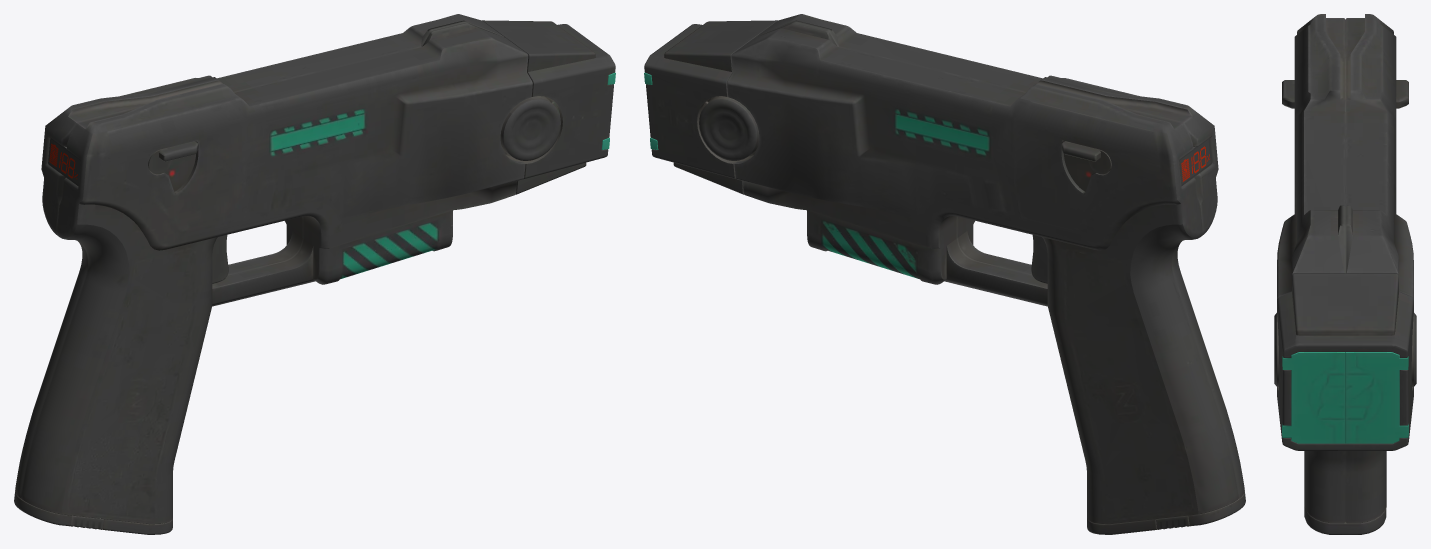
3 renders of one model, left to right at view 1: azimuth 30°, elevation 25°; view 2: azimuth 150°, elevation 25°; view 3: azimuth 270°, elevation 25°, orthographic. The views are drawn at different scales.
Parts seen in each view (by area): view 1: weapon_pist_taser.vmdl_c.body_hd; view 2: weapon_pist_taser.vmdl_c.body_hd; view 3: weapon_pist_taser.vmdl_c.body_hd.
Part boxes in pixels (left/top/right/bottom): weapon_pist_taser.vmdl_c.body_hd: left=14, top=14, right=615, bottom=534; weapon_pist_taser.vmdl_c.body_hd: left=644, top=14, right=1245, bottom=534; weapon_pist_taser.vmdl_c.body_hd: left=1274, top=14, right=1416, bottom=534.
Size of the model in its own units: 9.72 by 6.93 by 1.88.
Materials: 2 (2 with a texture image).
